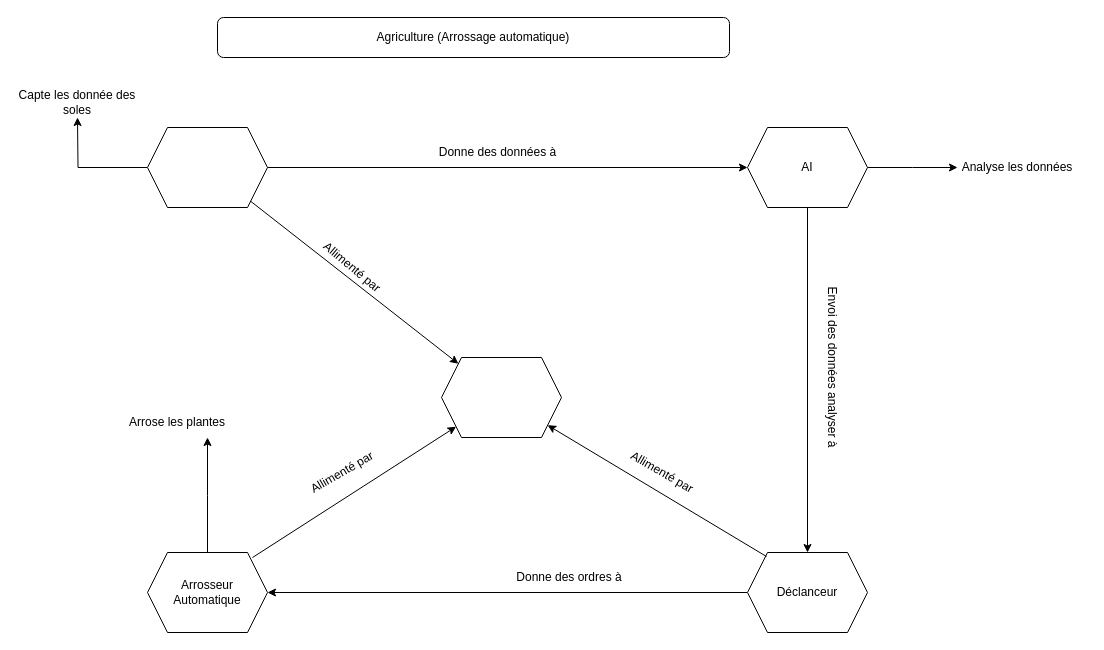
Some shapes in this 1104 by 650 pixel diagram are drawn without their labels. The shapes that lost their labels are listed below. From the top down, each one's centre as x and y in pixels, then its label:
At point 207,167: "Capteur".
At point 501,397: "Batterie ou Paneau Solaire".
